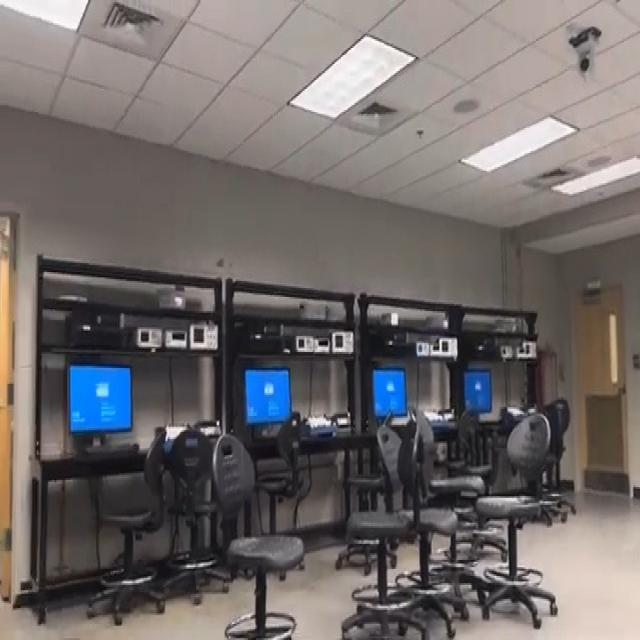drone: (205, 238, 238, 290)
